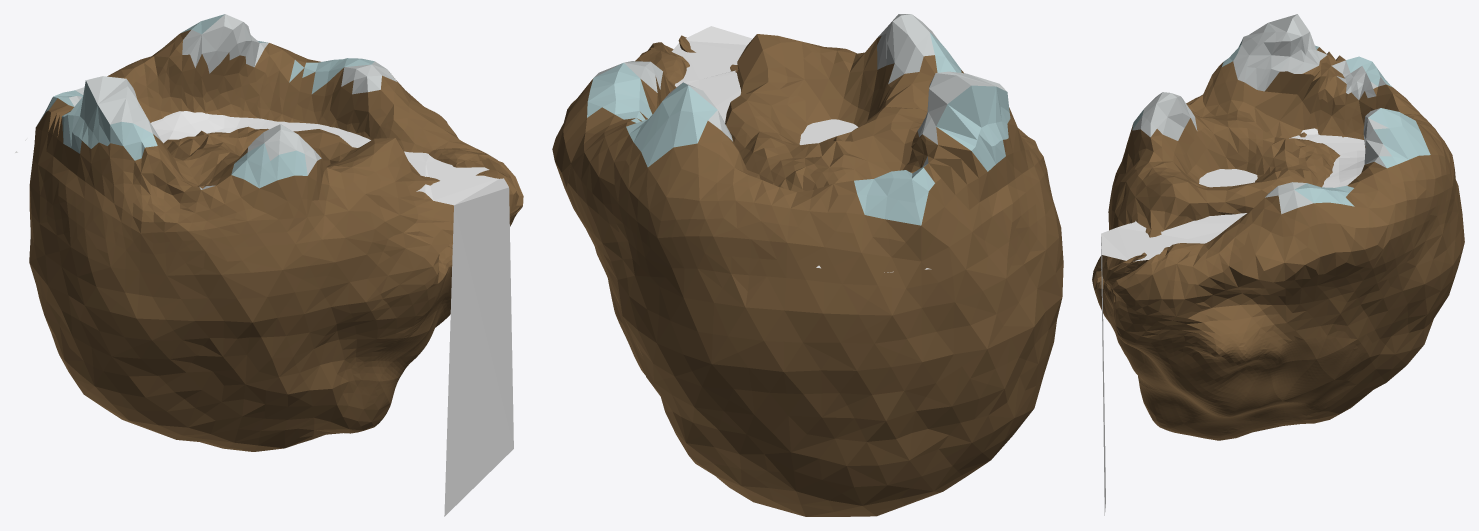
File: ProxyTest.fbx
3 renders of one model, left to right at view 1: azimuth 30°, elevation 25°; view 2: azimuth 150°, elevation 25°; view 3: azimuth 270°, elevation 25°, orthographic. The views are drawn at different scales.
Parts seen in each view (by area): view 1: Icosphere, proxy_(1), Plane; view 2: Icosphere, proxy_(1), Plane; view 3: Icosphere, proxy_(1), Plane.
Part boxes in pixels (x1,y1,x2,y2): Icosphere: (29, 14, 523, 451); proxy_(1): (50, 22, 519, 449); Plane: (15, 111, 513, 516); Icosphere: (552, 14, 1063, 516); proxy_(1): (587, 14, 1063, 516); Plane: (671, 26, 931, 272); Icosphere: (1092, 14, 1464, 440); proxy_(1): (1097, 32, 1464, 435); Plane: (1101, 128, 1365, 515).
Size of the model in its own units: 911 by 936 by 808.
